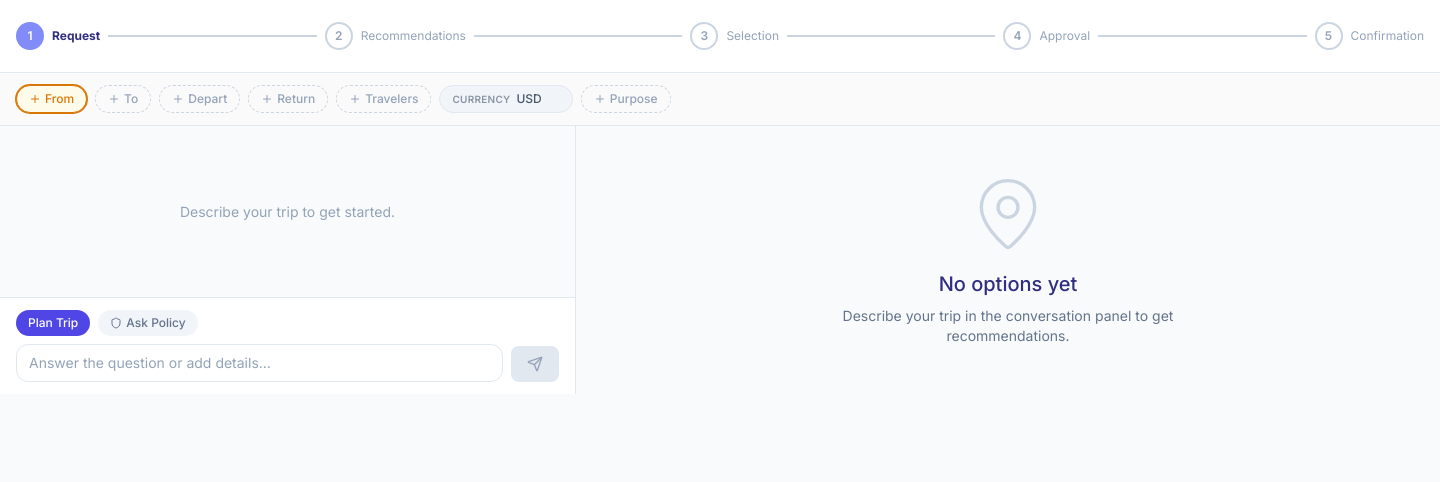
Test: C7-07 PlannerScreen Ask Policy › renders an abstention
The image size is (1440, 482).
Step 1. Click the button "Ask Policy" → [148, 323], box [98,310,198,336]
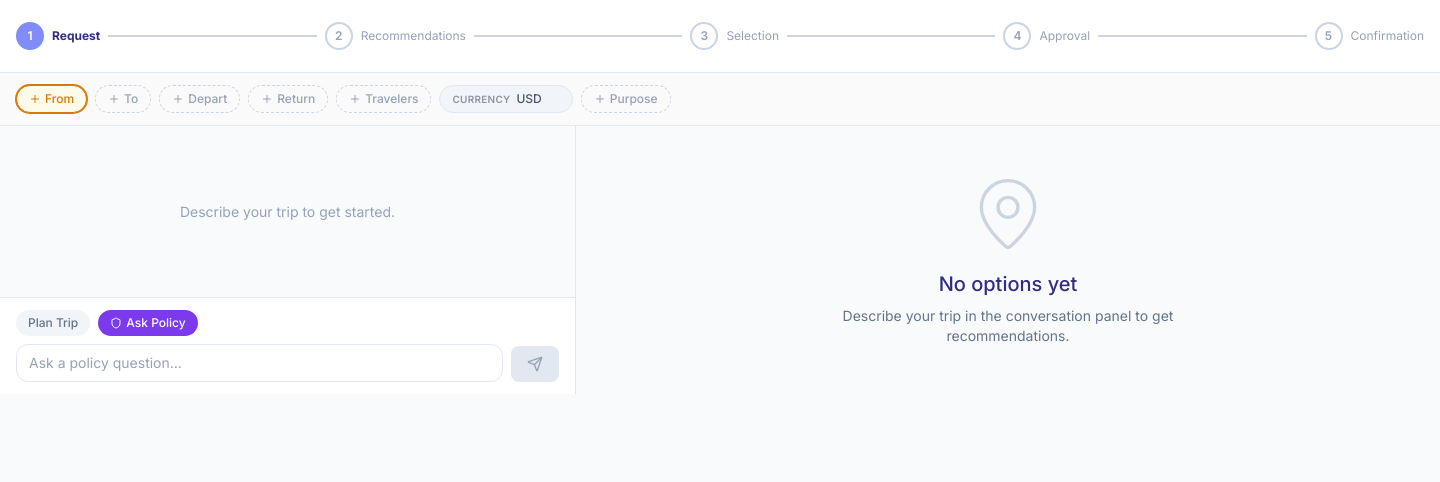
Step 2. Type "Can I expense a pony?" into the text box → [260, 363], box [16,344,503,382]
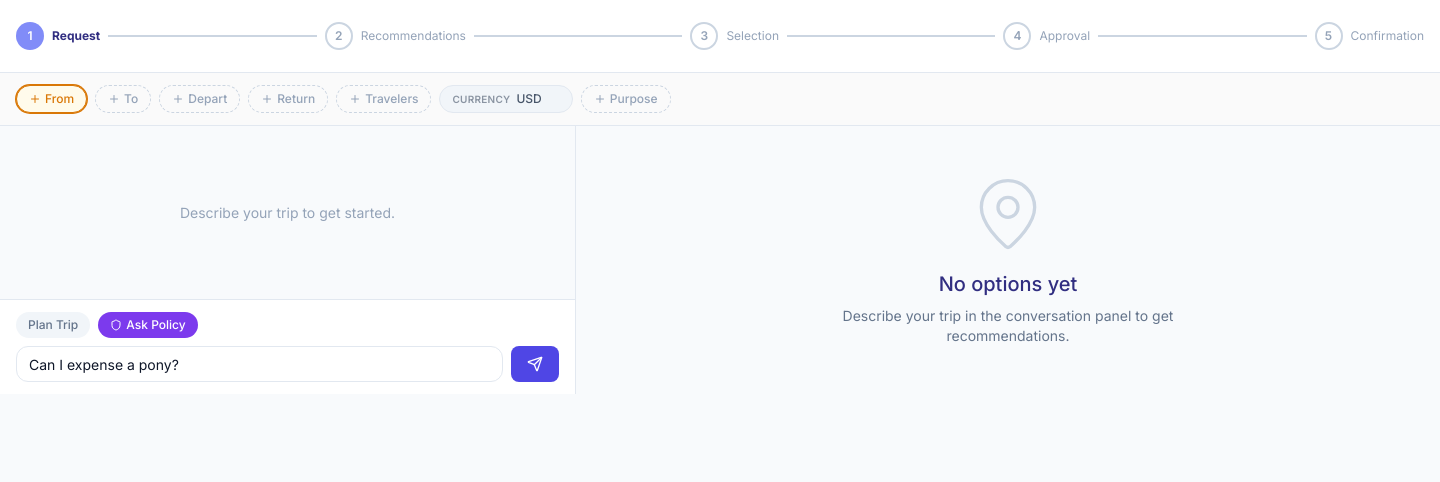
Step 3. Press Enter in the text box, box [16,346,503,382]
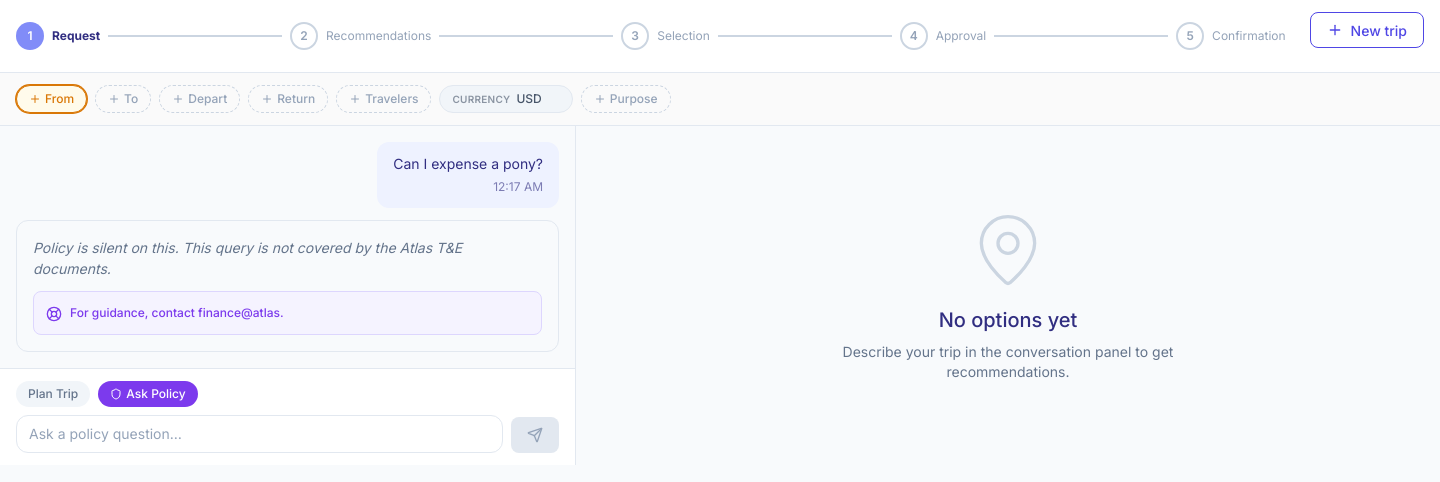
Now the text "Policy is silent on this" is shown, box [33,239,179,256]
Now the button "For guidance, contact finance@atlas." is shown, box [70,304,284,322]
